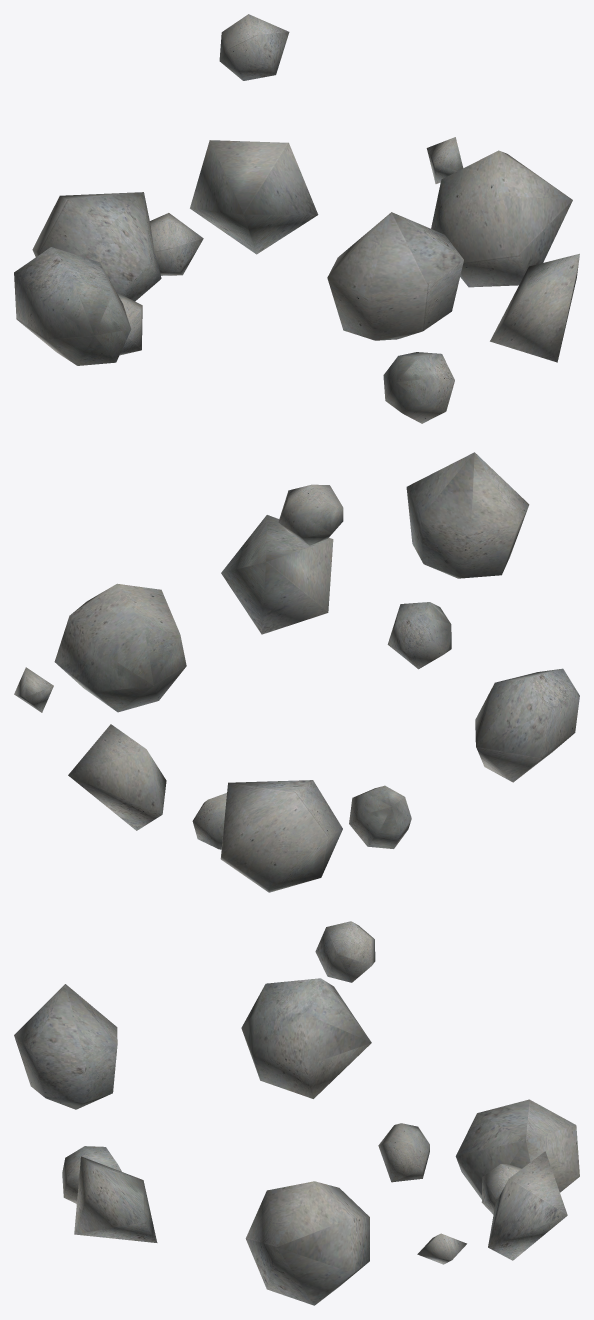
Rendered from stone_effect11.obj.
3 views of the same model, one above another, from view 1: azimuth 30°, elevation 25°; view 2: azimuth 150°, elevation 25°; view 3: azimuth 270°, elevation 25° (orthographic). The views are drawn at different scales.
Parts seen in each view (by area): view 1: Sphere011; view 2: Sphere011; view 3: Sphere011.
Part boxes in pixels (left/top/right/bottom): Sphere011: left=14, top=14, right=579, bottom=423; Sphere011: left=14, top=452, right=579, bottom=892; Sphere011: left=14, top=921, right=579, bottom=1305.
Bounding box in the file's own units: 211 × 134 × 218.
1 material, 1 textured.
